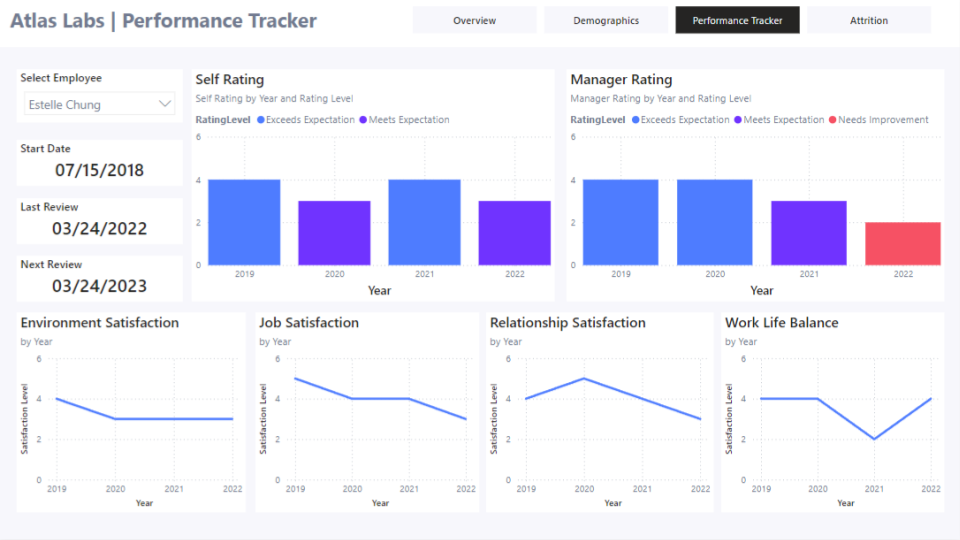

The page's visual inventory and layout, read from the dashboard file:
{"tool":"powerbi","page":{"name":"Performance Tracker","canvas":[1280,720],"ordinal":2},"visuals":[{"type":"slicer","title":"Select Employee","fields":{"Values":["DimEmployee.FullName"]},"box":[24.2,93.9,221.2,70.7],"z":0},{"type":"card","title":"Start Date","fields":{"Values":["Min(DimEmployee.HireDate)"]},"box":[24.2,187.9,221.2,60.6],"z":1000},{"type":"card","title":"Last Review","fields":{"Values":["_Measures.LastReviewDate"]},"box":[24.2,265.7,221.2,60.6],"z":2000},{"type":"card","title":"Next Review","fields":{"Values":["_Measures.NextReviewDate"]},"box":[24.2,342.4,221.2,60.6],"z":3000},{"type":"lineChart","title":"Environment Satisfaction","fields":{"Y":["_Measures.EnvironmentSatisfaction"],"Category":["DimDate.Date.Variation.Date Hierarchy.Year"]},"box":[24.2,418.2,305.1,265.7],"z":4000},{"type":"lineChart","title":"Job Satisfaction","fields":{"Category":["DimDate.Date.Variation.Date Hierarchy.Year"],"Y":["_Measures.JobSatisfaction"]},"box":[342.4,418.2,298,265.7],"z":5000},{"type":"lineChart","title":"Work Life Balance","fields":{"Y":["_Measures.WorkLifeBalance"],"Category":["DimDate.Date.Variation.Date Hierarchy.Year"]},"box":[962.6,418.2,297,265.7],"z":6000},{"type":"lineChart","title":"Relationship Satisfaction","fields":{"Y":["_Measures.RelationshipSatisfaction"],"Category":["DimDate.Date.Variation.Date Hierarchy.Year"]},"box":[649.5,418.2,303,265.7],"z":7000},{"type":"columnChart","title":"Self Rating","fields":{"Category":["DimDate.Date.Variation.Date Hierarchy.Year"],"Y":["_Measures.SelfRating"],"Series":["DimRatingLevel.RatingLevel"]},"box":[257.6,93.9,482.8,309.1],"z":8000},{"type":"columnChart","title":"Manager Rating","fields":{"Category":["DimDate.Date.Variation.Date Hierarchy.Year"],"Y":["_Measures.ManagerRating"],"Series":["DimRatingLevel.RatingLevel"]},"box":[756.6,93.9,503,309.1],"z":9000},{"type":"shape","box":[0,0,1279.8,64.6],"z":10000},{"type":"pageNavigator","box":[551.5,11.1,690.9,36.4],"z":11000},{"type":"textbox","box":[97,5.1,258.6,51.5],"z":12000},{"type":"textbox","box":[10.1,5.1,439.4,51.5],"z":13000}]}

Visuals, with their boxes in screenshot pixels (x1, y1, x2, y2), scaled from the page's 1280x720 canvas onto the 960x540 screenshot:
"Select Employee" slicer: bbox=(18, 70, 184, 123)
"Start Date" card: bbox=(18, 141, 184, 186)
"Last Review" card: bbox=(18, 199, 184, 245)
"Next Review" card: bbox=(18, 257, 184, 302)
"Environment Satisfaction" lineChart: bbox=(18, 314, 247, 513)
"Job Satisfaction" lineChart: bbox=(257, 314, 480, 513)
"Work Life Balance" lineChart: bbox=(722, 314, 945, 513)
"Relationship Satisfaction" lineChart: bbox=(487, 314, 714, 513)
"Self Rating" columnChart: bbox=(193, 70, 555, 302)
"Manager Rating" columnChart: bbox=(567, 70, 945, 302)
shape: bbox=(0, 0, 959, 48)
pageNavigator: bbox=(414, 8, 932, 36)
textbox: bbox=(73, 4, 267, 42)
textbox: bbox=(8, 4, 337, 42)
